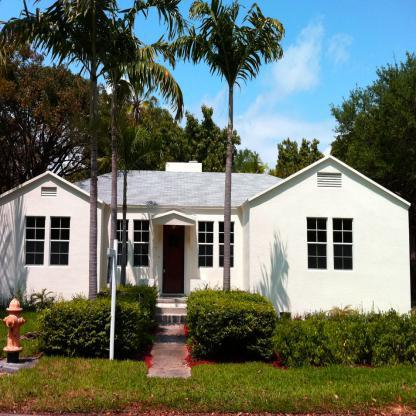door: (164, 227, 184, 291)
